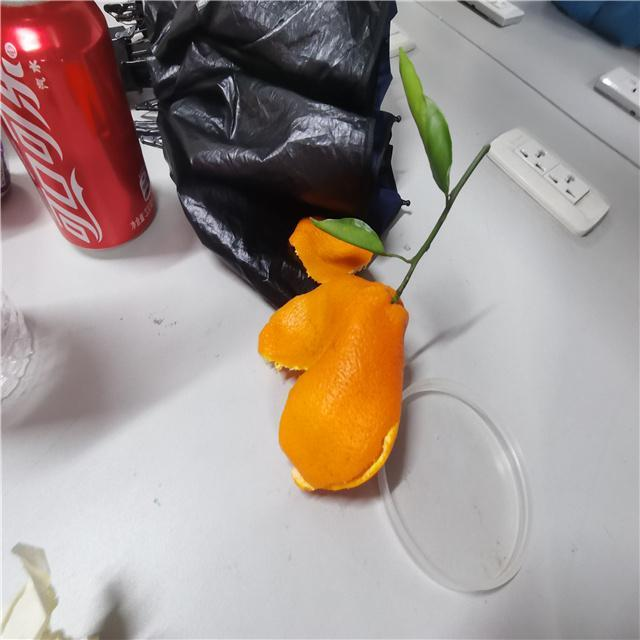orange-peel: (252, 210, 418, 499)
